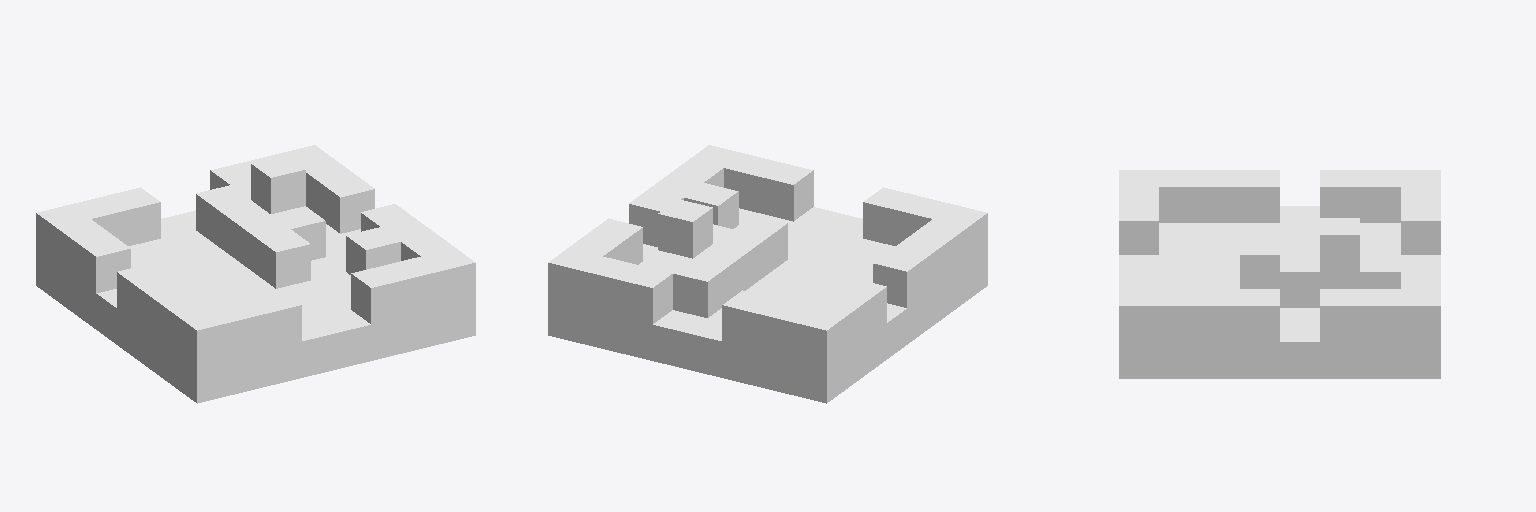
Rendered from GreenCorall5.obj.
The picture shows the model from 3 angles: view 1: azimuth 30°, elevation 25°; view 2: azimuth 150°, elevation 25°; view 3: azimuth 270°, elevation 25°; orthographic projection.
Visible parts, largest first — view 1: object 1; view 2: object 1; view 3: object 1.
Part boxes in pixels (x1,y1,x2,y2): object 1: (36, 145, 475, 403); object 1: (548, 145, 987, 403); object 1: (1119, 170, 1440, 378).
Size of the model in its own units: 0.8 by 0.3 by 0.8.